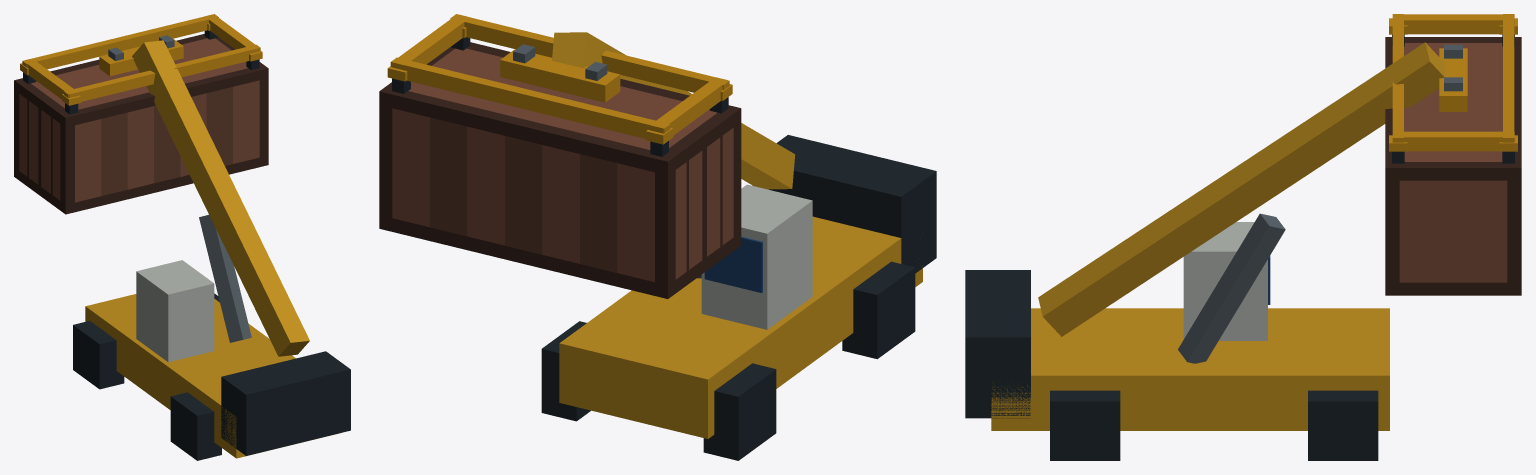
File: reach-stacker.glb
3 renders of one model, left to right at view 1: azimuth 30°, elevation 25°; view 2: azimuth 150°, elevation 25°; view 3: azimuth 270°, elevation 25°, orthographic. The views are drawn at different scales.
Parts seen in each view (by area): view 1: reach-stacker; view 2: reach-stacker; view 3: reach-stacker.
Boxes of the visible parts, box(x1,y1,x2,y2) form: reach-stacker: box(14, 14, 350, 460); reach-stacker: box(379, 14, 936, 460); reach-stacker: box(965, 14, 1521, 460).
Size of the model in its own units: 13.2 by 18.19 by 23.7.
